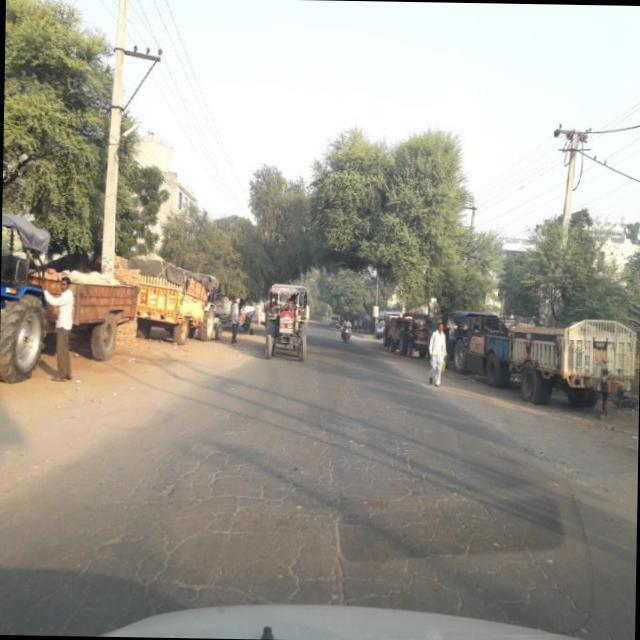crack: (123, 414, 593, 622)
